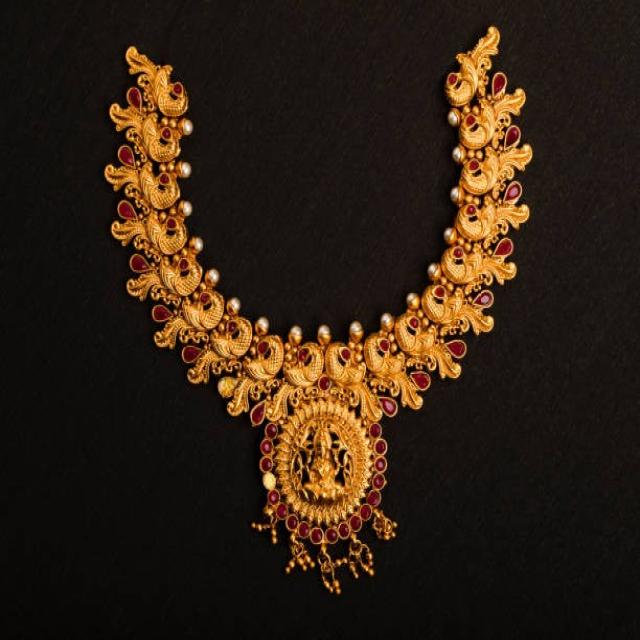missing gem: (218, 376, 237, 397), (264, 474, 275, 488)
